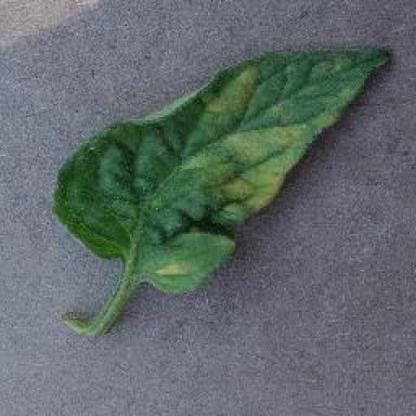Tomato_Leaf_Mold: (56, 46, 391, 293)
